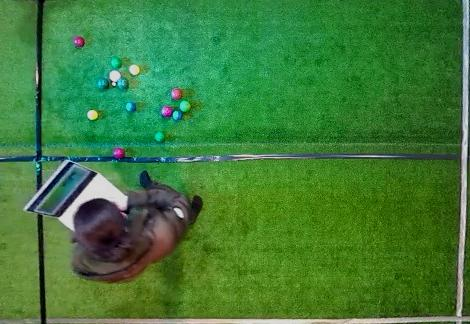blue: (172, 110, 183, 121), (126, 102, 136, 112)
green: (117, 77, 129, 90), (97, 78, 109, 90), (180, 100, 191, 112), (154, 132, 165, 142), (111, 58, 122, 68)
red: (109, 70, 121, 82), (171, 88, 182, 100), (161, 106, 172, 117), (113, 148, 124, 159), (74, 37, 85, 47)
vline: (1, 1, 48, 323), (454, 1, 469, 323)
white: (112, 82, 116, 86)
yellow: (129, 64, 140, 75), (87, 110, 98, 120)
